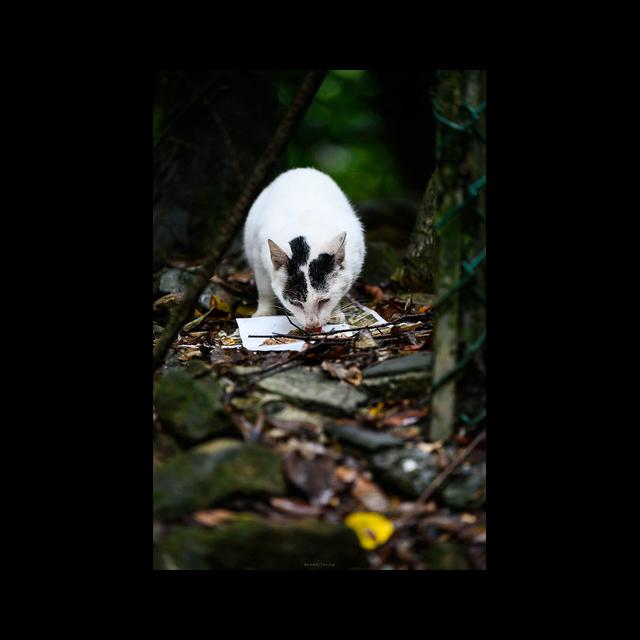animals: (245, 169, 366, 330)
